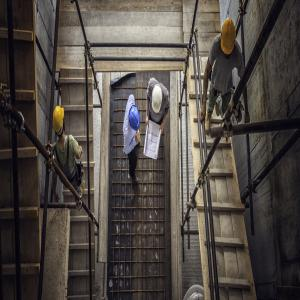blue: (128, 104, 142, 136)
white: (153, 85, 164, 117)
yellow: (221, 17, 237, 61), (53, 104, 67, 138)
